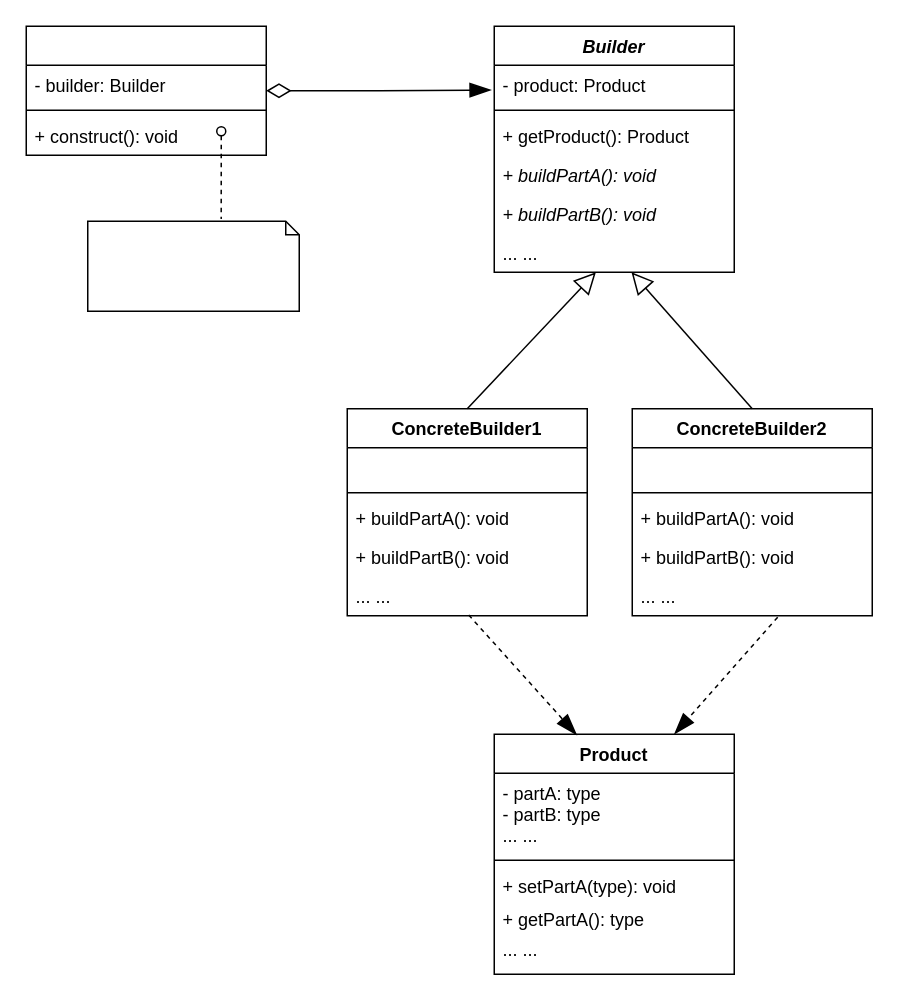
This 899x1005 diagram has some shape labels left out. The box of each missing label's shape, as (x1, y1, x2, y2) in pixels:
builder.buildPartA(); builder.buildPartB(); ... ...: (86, 220, 299, 311)
Director: (25, 25, 266, 155)
